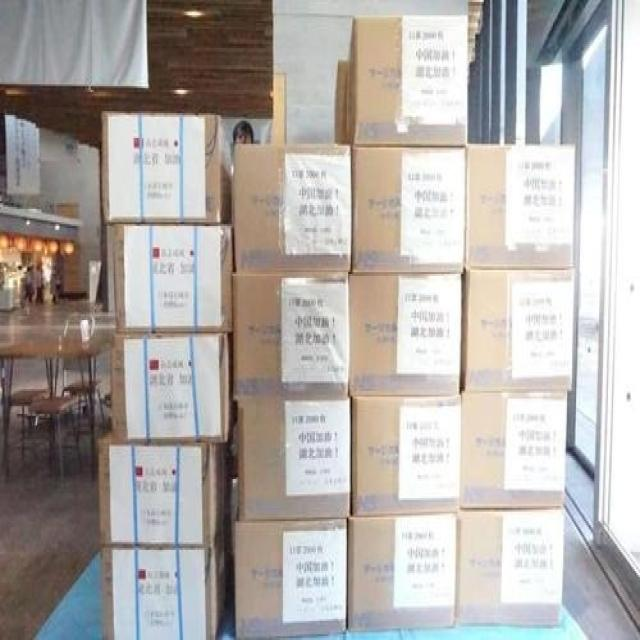box: (346, 15, 468, 146), (232, 146, 352, 272), (99, 427, 223, 548), (233, 272, 351, 399), (110, 331, 238, 445), (101, 111, 232, 222), (352, 148, 467, 274), (238, 399, 351, 521), (461, 270, 573, 393), (465, 144, 576, 268), (349, 276, 462, 397), (234, 519, 347, 640), (351, 395, 461, 517), (347, 514, 457, 632), (113, 224, 232, 333), (101, 538, 227, 640), (456, 510, 564, 627), (461, 393, 567, 508), (334, 61, 348, 142)
